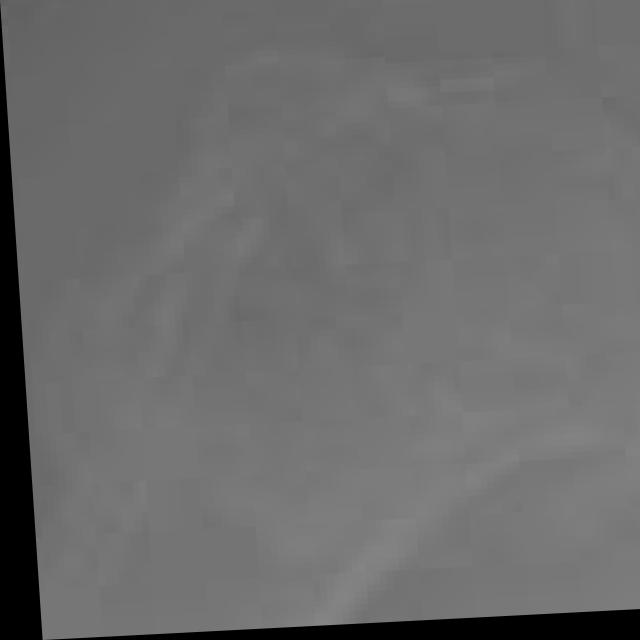fracture: (10, 0, 640, 634)
